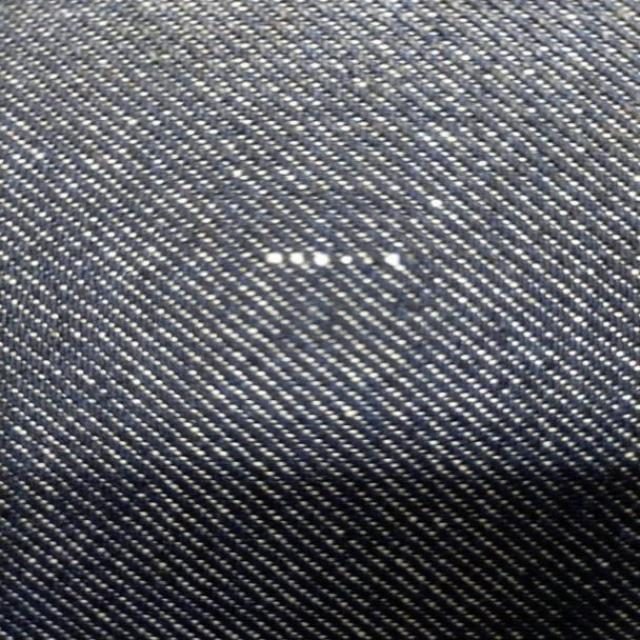Knot: (264, 249, 376, 269), (380, 253, 405, 272)
